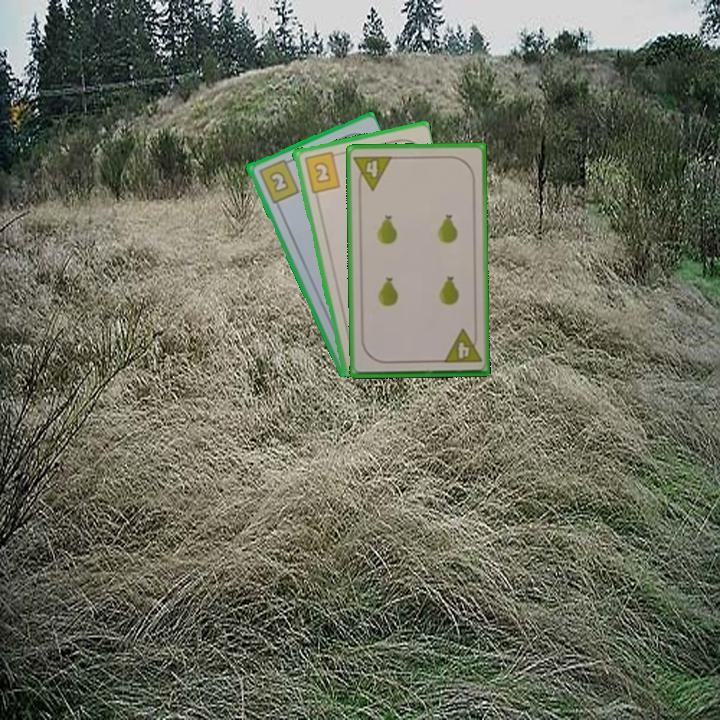2b: (255, 155, 302, 206), (300, 148, 343, 195)
4p: (350, 152, 395, 193), (440, 326, 484, 366)
